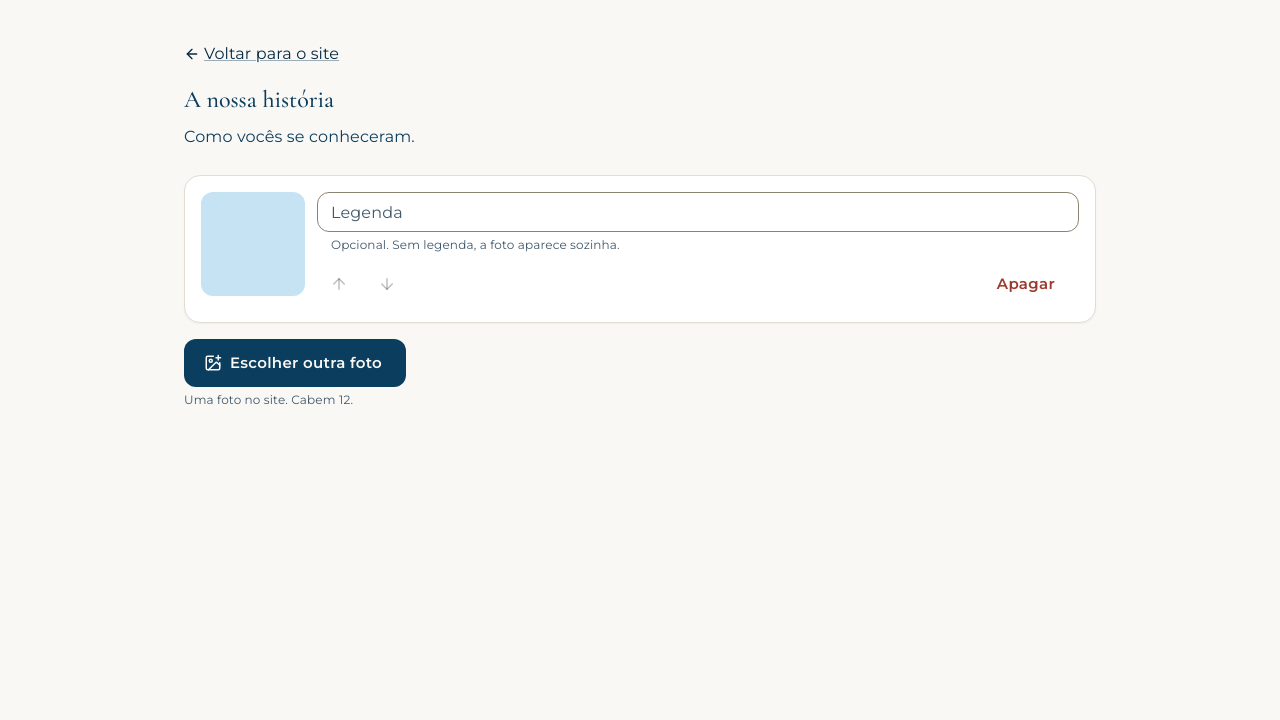
Scenario: no editor da galeria, a legenda digitada conta como alteração › a foto já está publicada, e por isso a legenda por salvar avisa
Step 1. Type "Na praia, no primeiro dia." into the field labelled "Legenda" → [698, 212], box x1=317 y1=192 x2=1079 y2=232
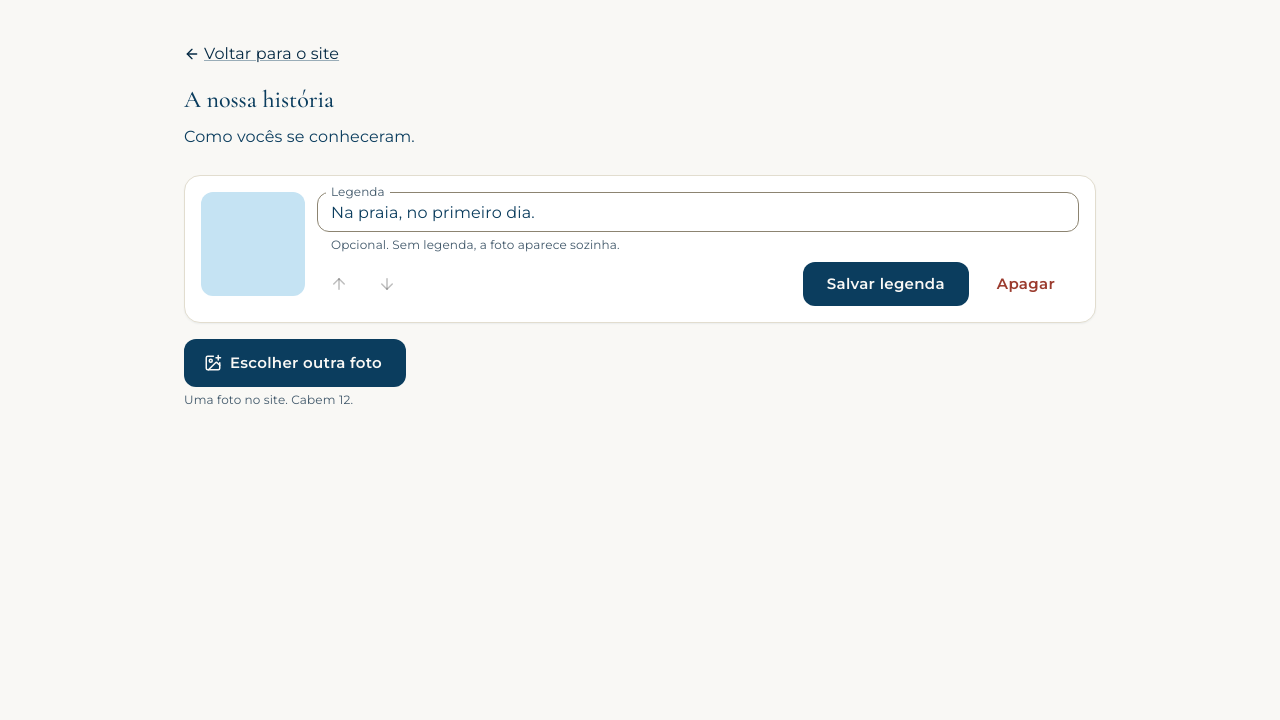
Step 2. Click the link "Voltar para o site" → [262, 54], box x1=184 y1=44 x2=339 y2=63
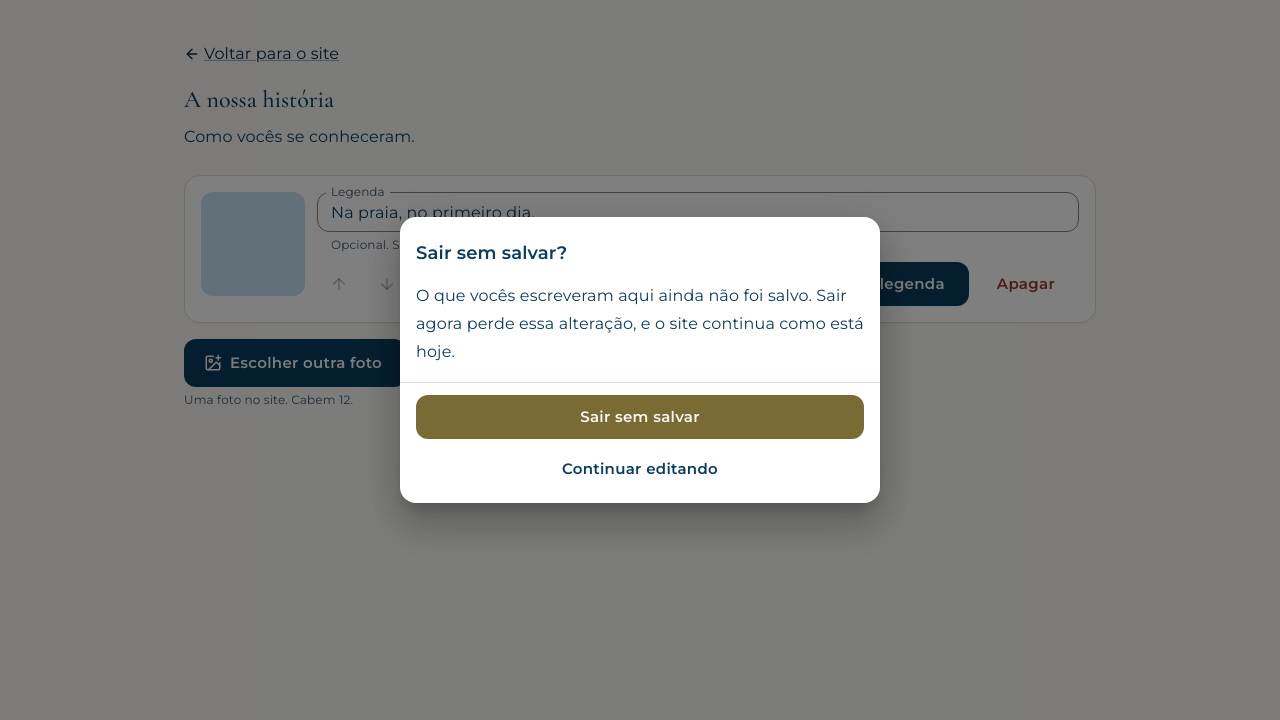
Now the heading "Sair sem salvar?" is shown, box x1=416 y1=242 x2=567 y2=264
